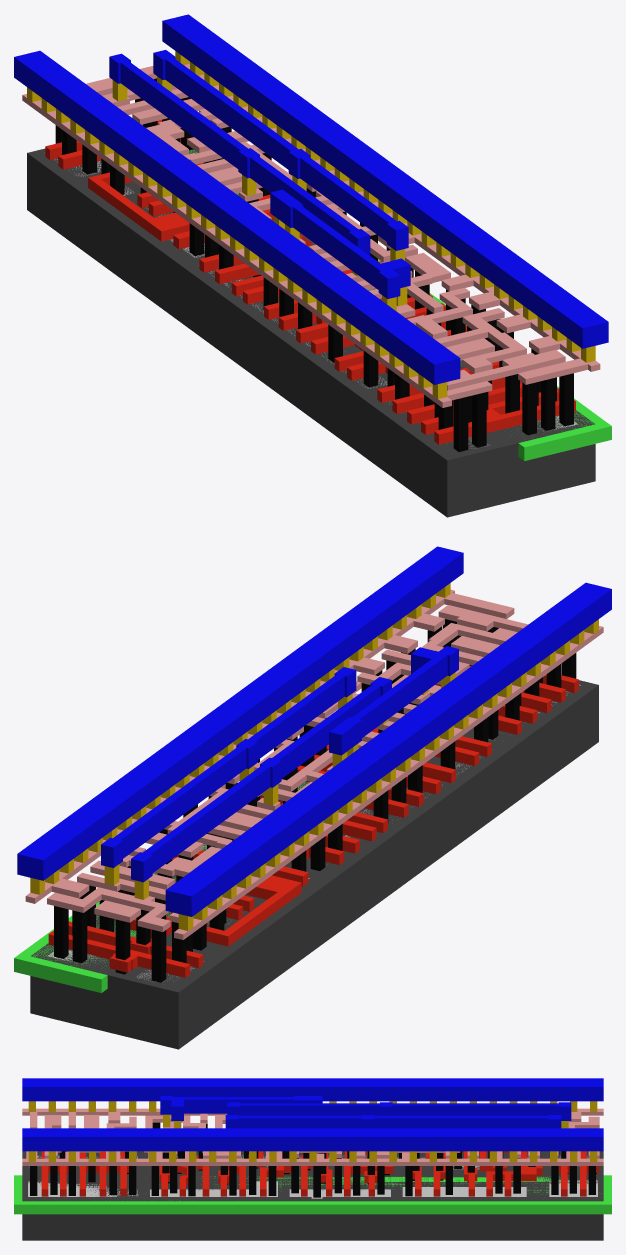
The model's file is sky130_fd_sc_hd__sdfrbp_2.obj.
The picture shows the model from 3 angles, top to bottom: view 1: azimuth 30°, elevation 25°; view 2: azimuth 150°, elevation 25°; view 3: azimuth 270°, elevation 25°; orthographic projection. The views are drawn at different scales.
Parts seen in each view (by area): view 1: metal1, subs, li, poly, licon, mcon, nwell; view 2: metal1, subs, li, poly, licon, mcon, nwell; view 3: metal1, subs, nwell, li, licon, poly, mcon, tap.
Boxes of the visible parts, <box> form: metal1: <box>14,14,608,384</box>; subs: <box>27,142,595,517</box>; li: <box>22,64,600,407</box>; poly: <box>45,120,575,444</box>; licon: <box>55,78,573,451</box>; mcon: <box>27,51,595,398</box>; nwell: <box>180,142,611,460</box>; metal1: <box>17,546,611,916</box>; subs: <box>30,680,598,1049</box>; li: <box>25,589,603,939</box>; poly: <box>48,646,578,977</box>; licon: <box>54,619,576,982</box>; mcon: <box>30,583,598,930</box>; nwell: <box>14,782,308,992</box>; metal1: <box>22,1078,603,1151</box>; subs: <box>22,1151,603,1240</box>; nwell: <box>14,1175,611,1214</box>; li: <box>22,1108,603,1165</box>; licon: <box>30,1122,596,1197</box>; poly: <box>41,1151,598,1196</box>; mcon: <box>28,1101,597,1161</box>; tap: <box>28,1180,597,1198</box>.
Size of the model in its own units: 3.2 by 2.74 by 13.72.
